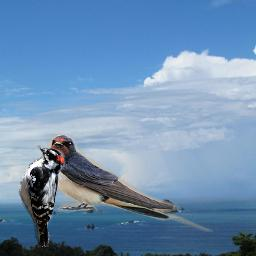Swallow: (47, 132, 213, 232)
Woodpecker: (18, 145, 66, 247)
